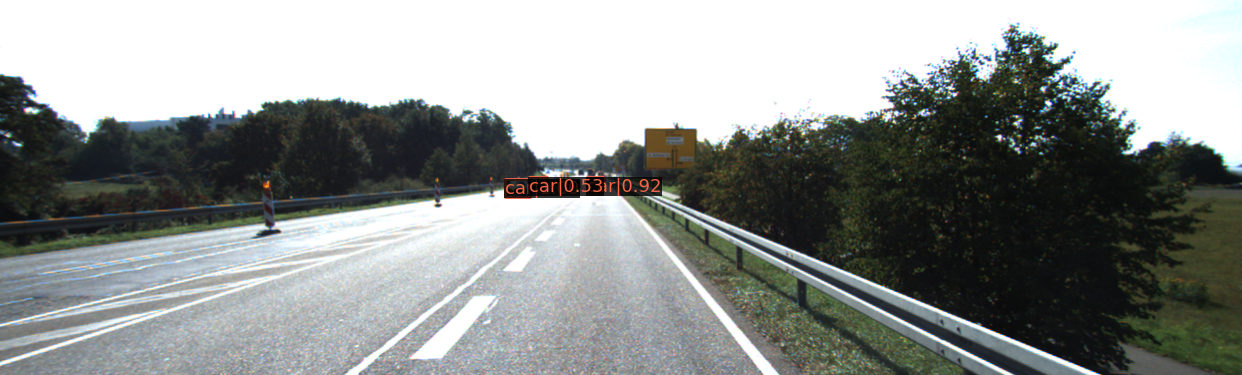car: (505, 180, 530, 199), (588, 179, 604, 192)
